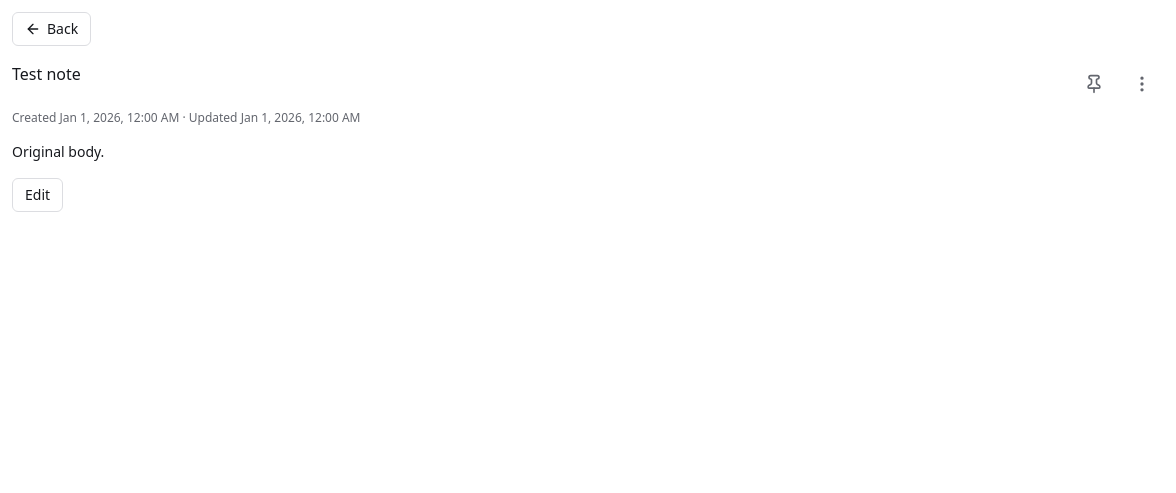
Test: inline edit saves the body via PATCH and returns to the display view
Expected: the button "Original body." is shown, [12,142,1164,162]
Click the button "Edit" at (38,195), box [12,178,63,212]
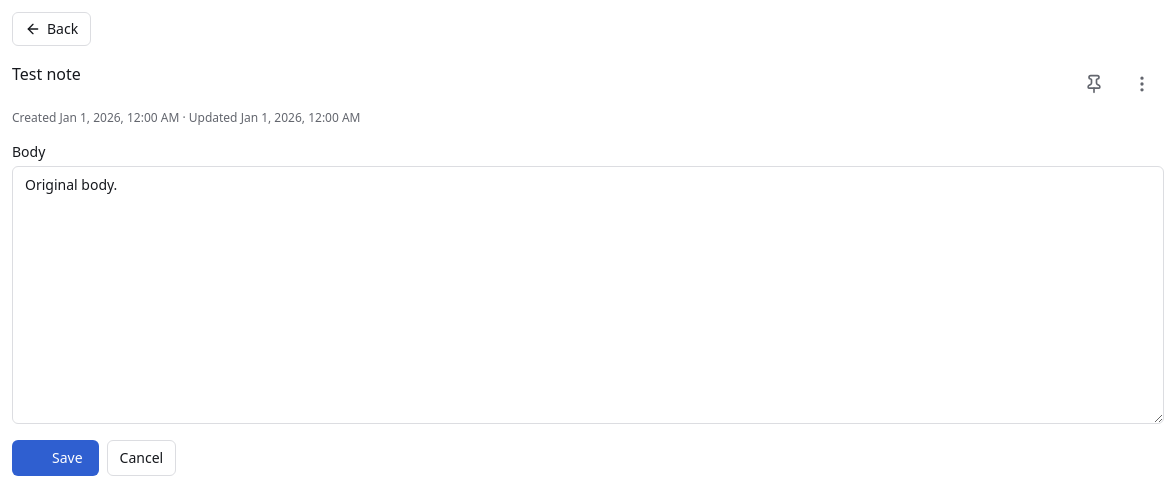
Replace the text in the text box labelled "Body" with "Updated body." at (588,295), box [12,166,1164,424]
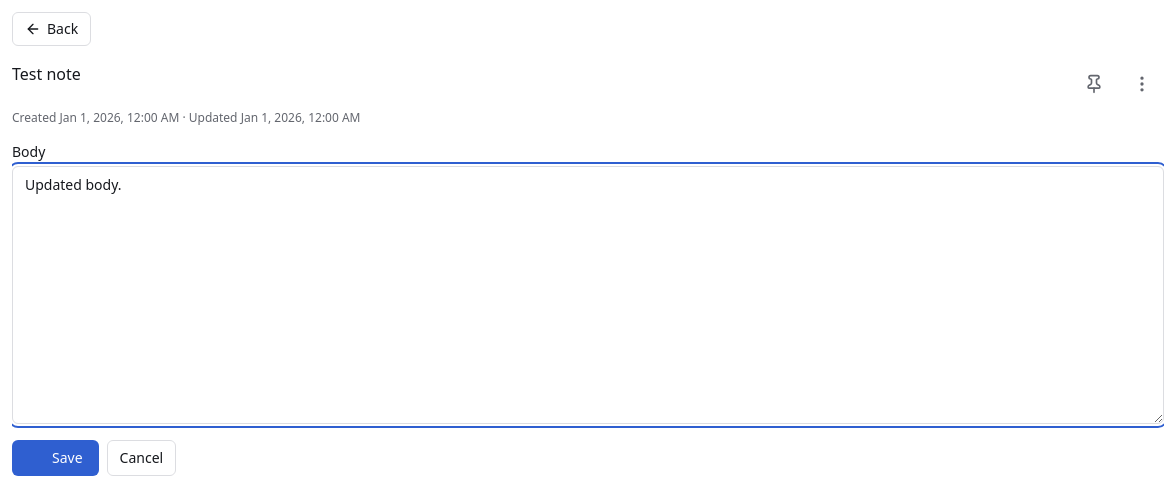
Type keys "{Control>}{Enter}{/Control}"
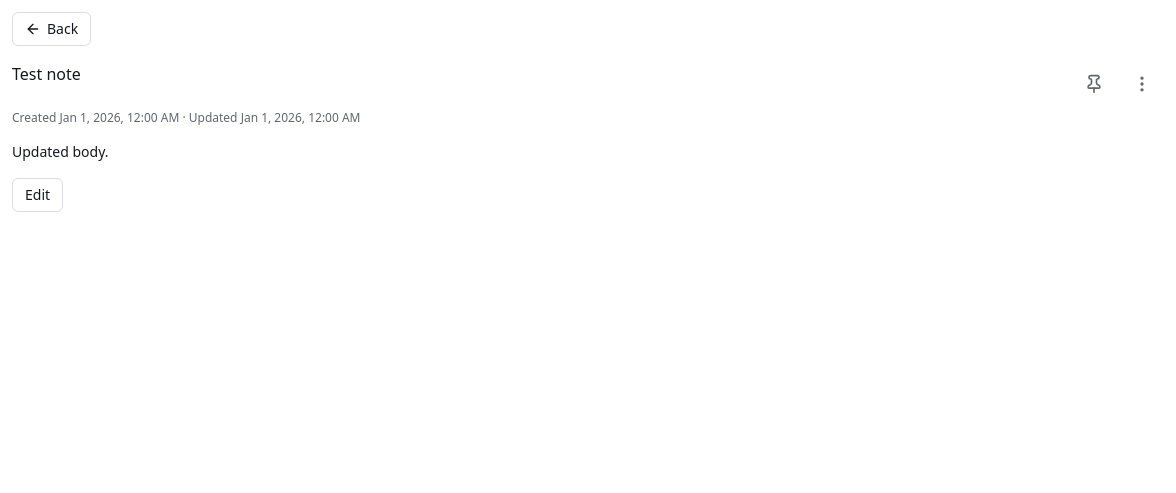
Expected: the button "Updated body." is shown, [12,142,1164,162]
